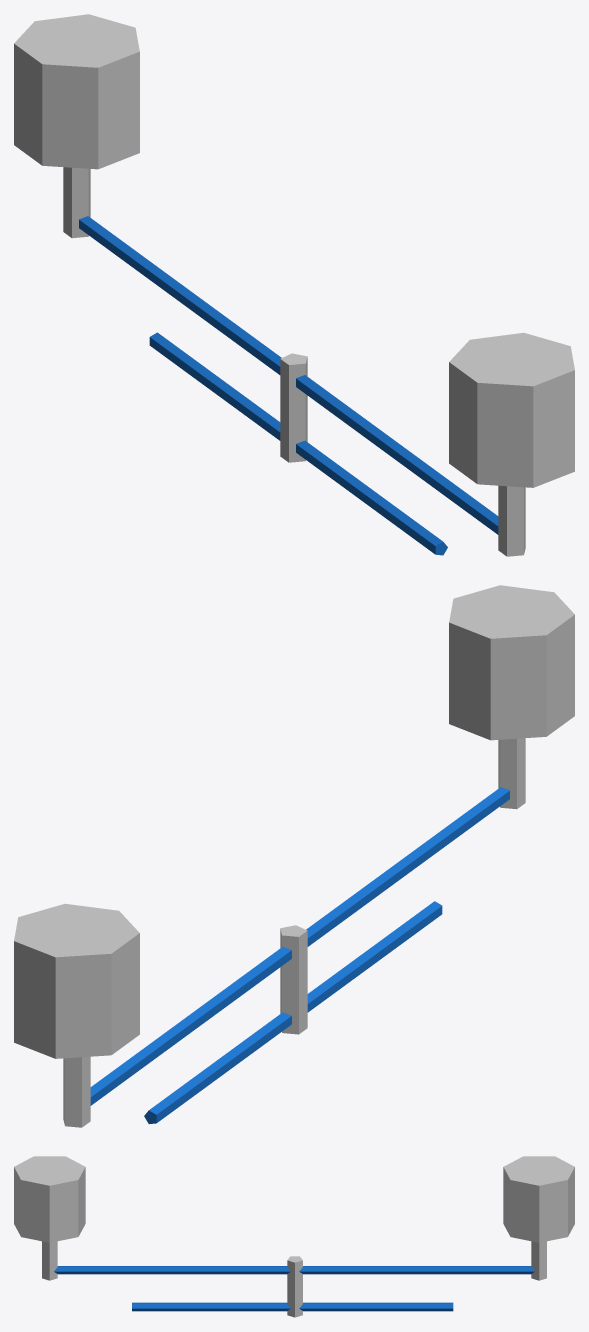
The model's file is SM_overhead_lamp6.fbx.
The picture shows the model from 3 angles, top to bottom: view 1: azimuth 30°, elevation 25°; view 2: azimuth 150°, elevation 25°; view 3: azimuth 270°, elevation 25°; orthographic projection. The views are drawn at different scales.
Visible parts, largest first — view 1: overhead_lamp6; view 2: overhead_lamp6; view 3: overhead_lamp6.
Part boxes in pixels (x1,y1,x2,y2): overhead_lamp6: [14, 14, 574, 556]; overhead_lamp6: [14, 585, 574, 1127]; overhead_lamp6: [14, 1156, 574, 1317].
Bounding box in the file's own units: 28.51 × 65.03 × 229.
